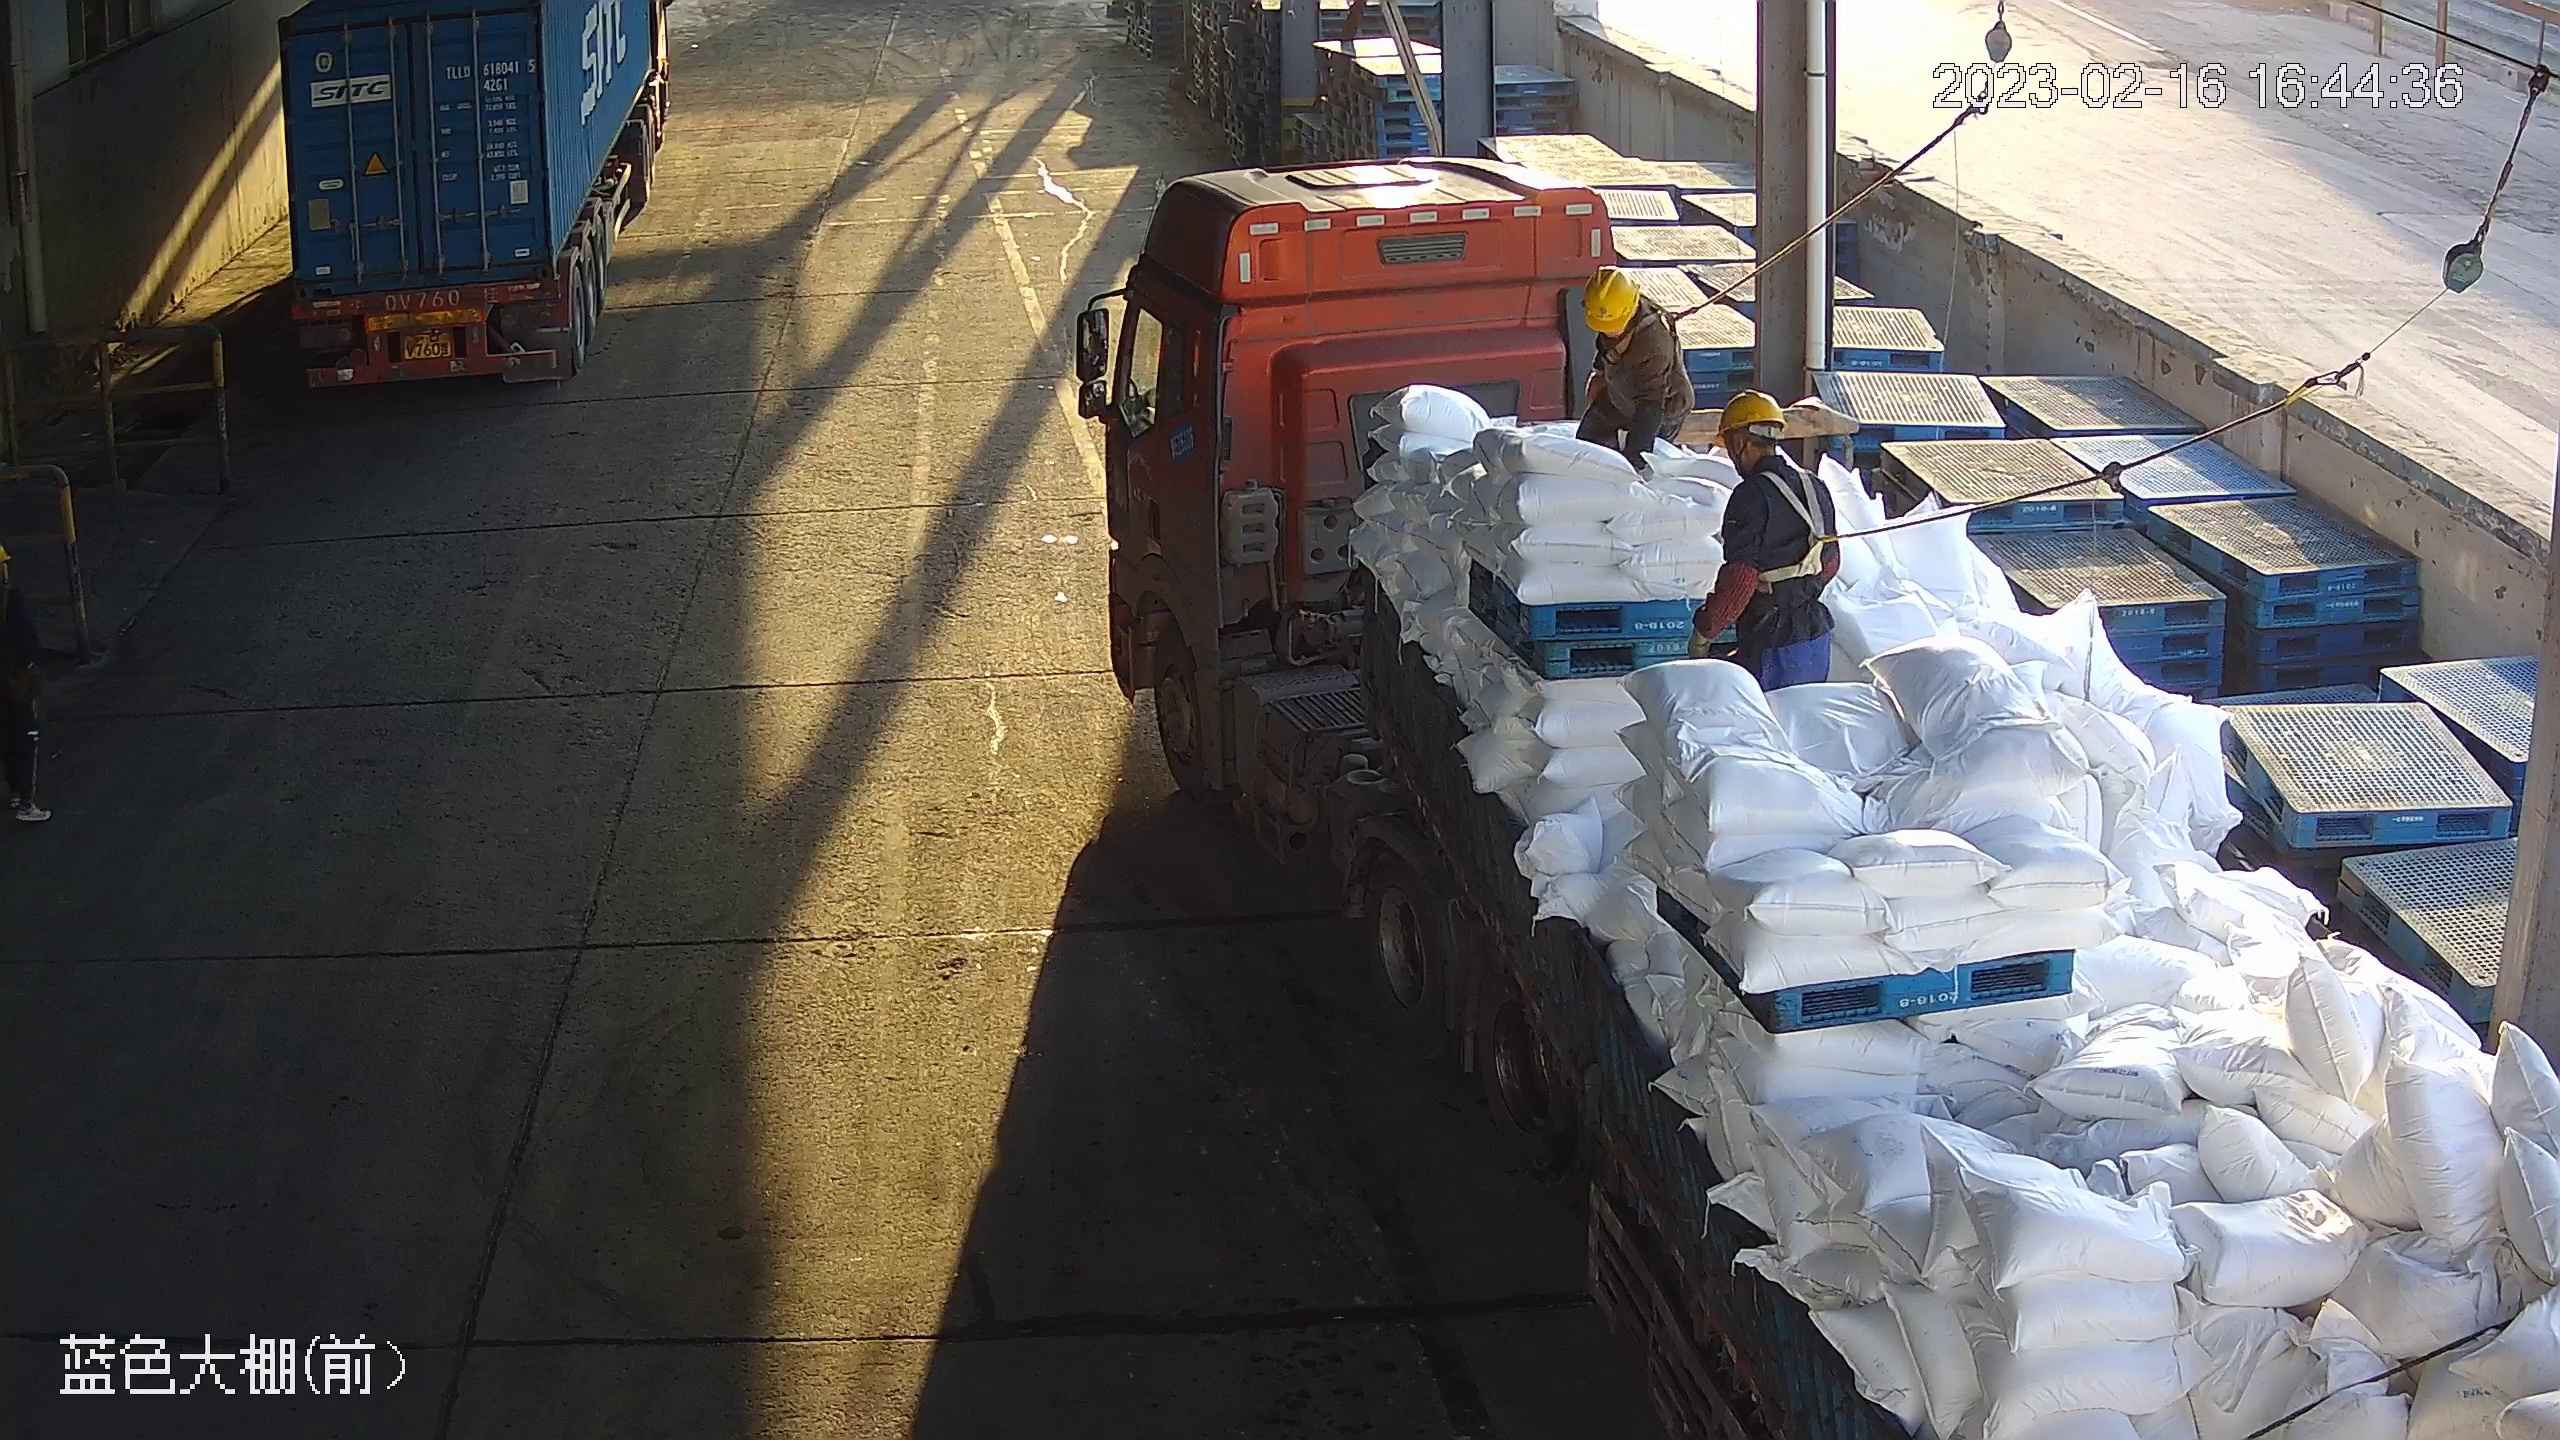belt: (1755, 474, 1849, 590), (1600, 293, 1697, 378)
head: (1713, 392, 1832, 515), (1579, 267, 1676, 369)
helmet: (1583, 262, 1641, 327), (1713, 388, 1786, 436)
people: (1690, 388, 1842, 693), (1563, 267, 1697, 481)
truck: (1063, 158, 2560, 1440), (281, 1, 672, 401)
